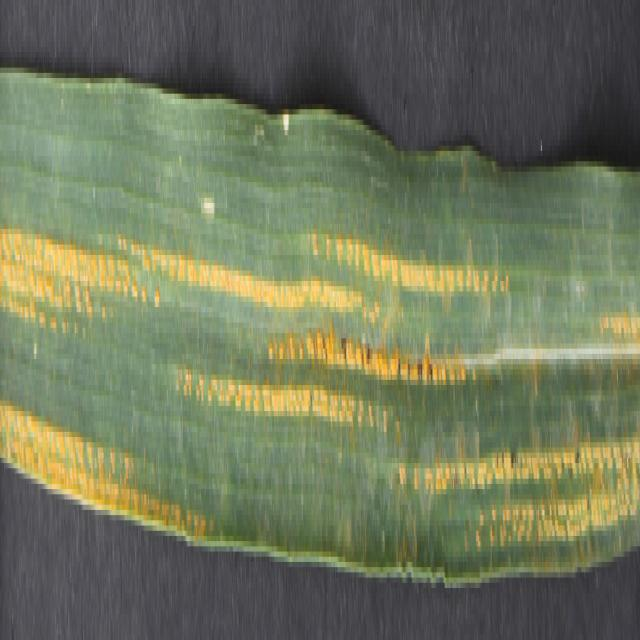leaf rust: (0, 166, 640, 567)
